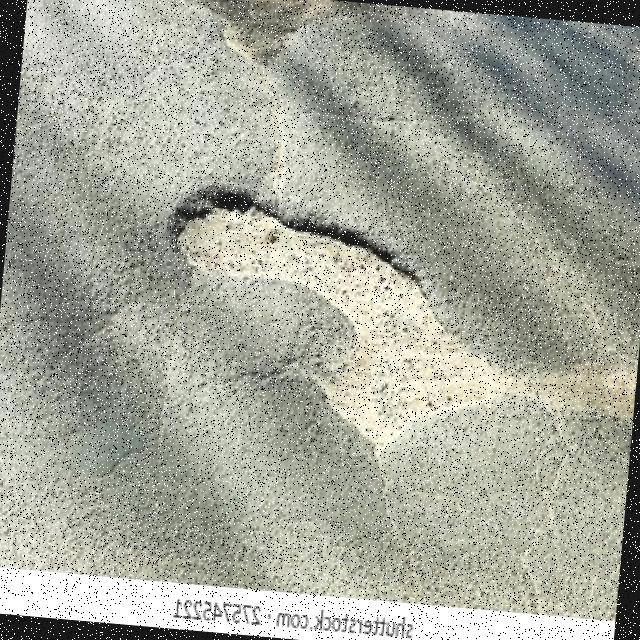Pothole: (168, 188, 490, 448)
